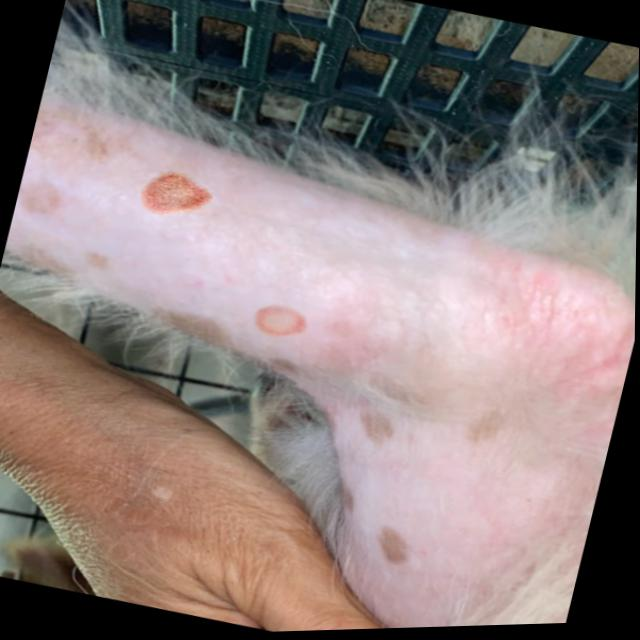ringworm: (128, 155, 230, 248), (244, 287, 324, 355)
